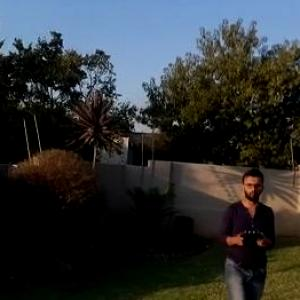follow: (213, 153, 277, 299)
